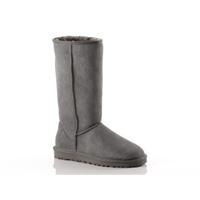shoe: (52, 36, 148, 168)
